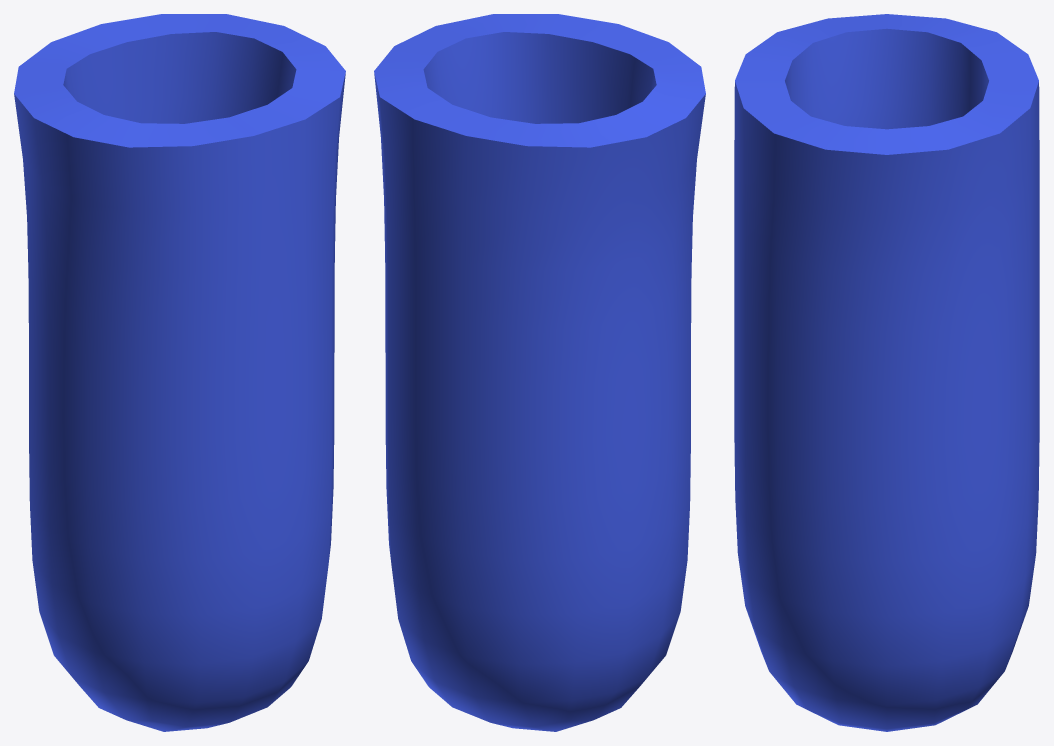
The model's file is sleeve.fbx.
3 renders of one model, left to right at view 1: azimuth 30°, elevation 25°; view 2: azimuth 150°, elevation 25°; view 3: azimuth 270°, elevation 25°, orthographic.
Parts seen in each view (by area): view 1: hand; view 2: hand; view 3: hand.
Part boxes in pixels (x1,y1,x2,y2): hand: (14, 14, 345, 731); hand: (374, 14, 705, 731); hand: (734, 14, 1039, 731).
Bounding box in the file's own units: 403 × 846 × 367.
